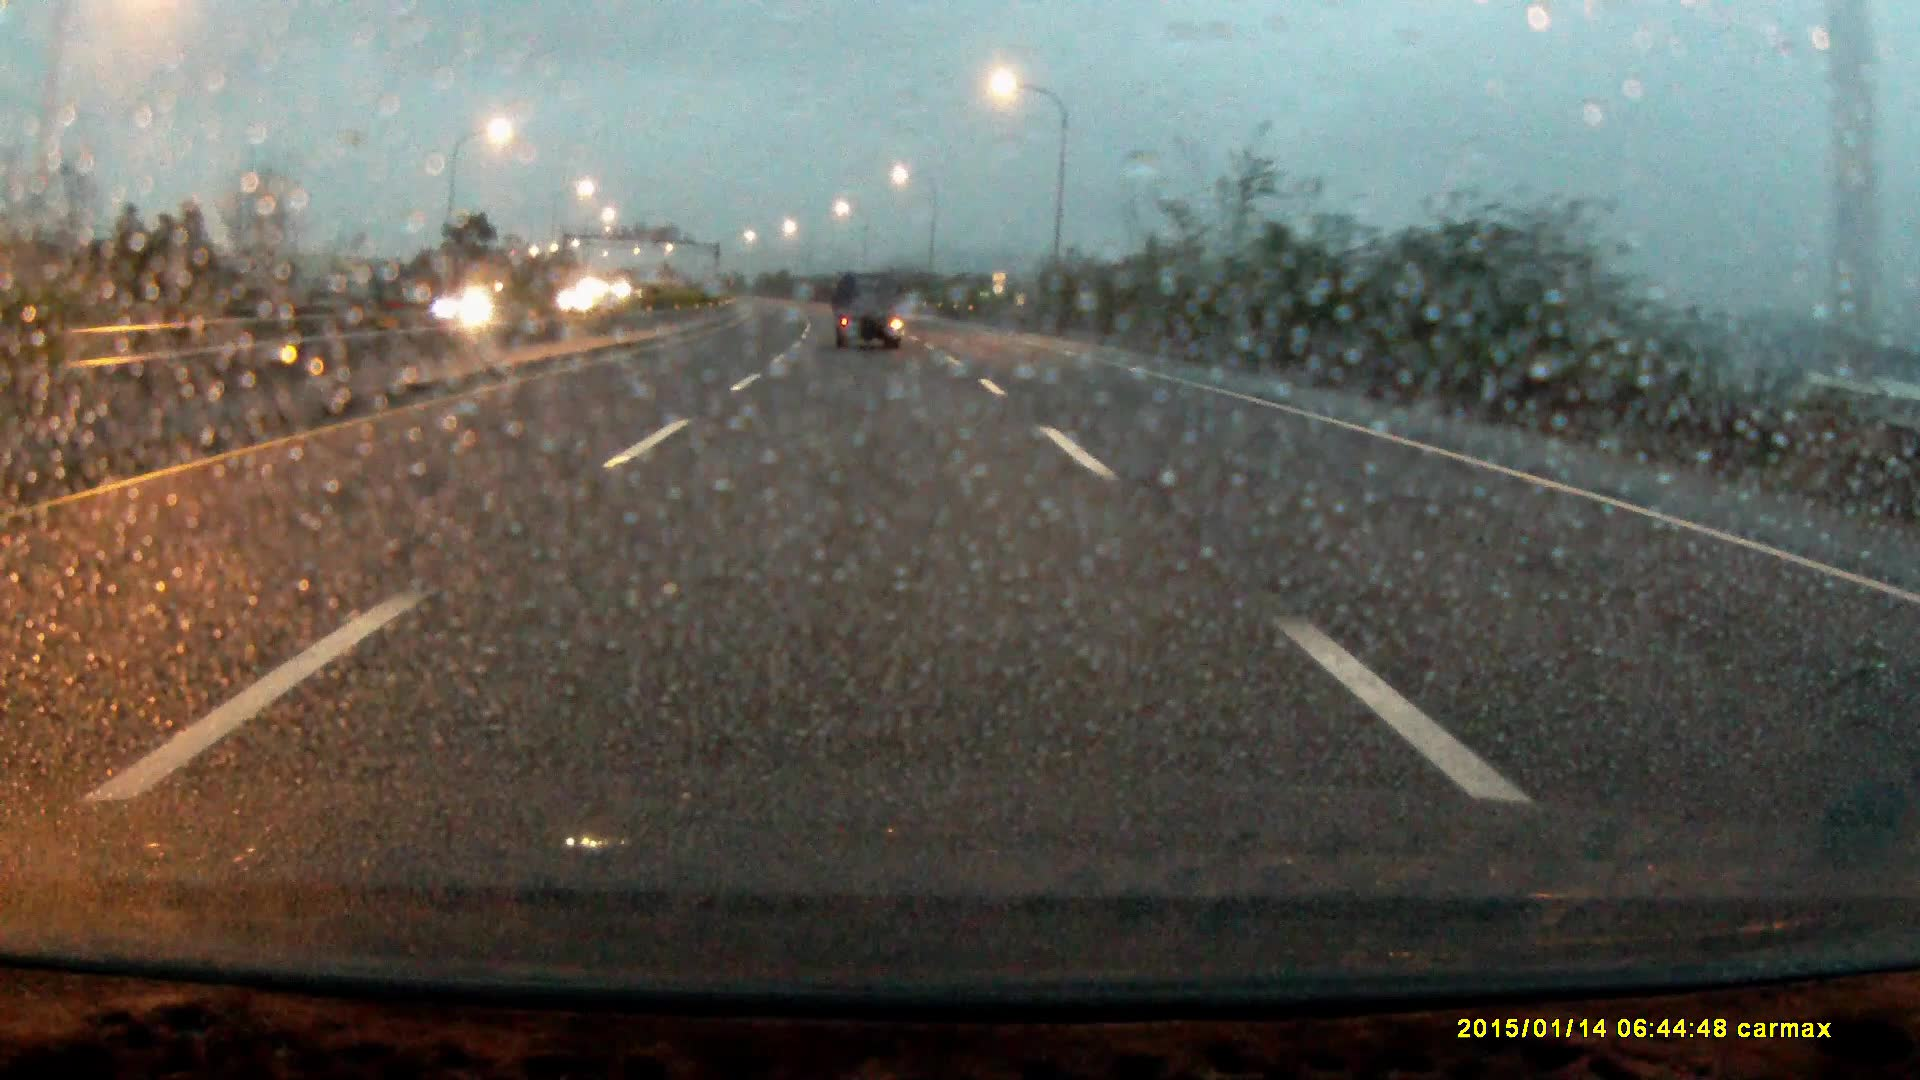vehicle: (833, 276, 903, 351), (425, 287, 512, 328)
